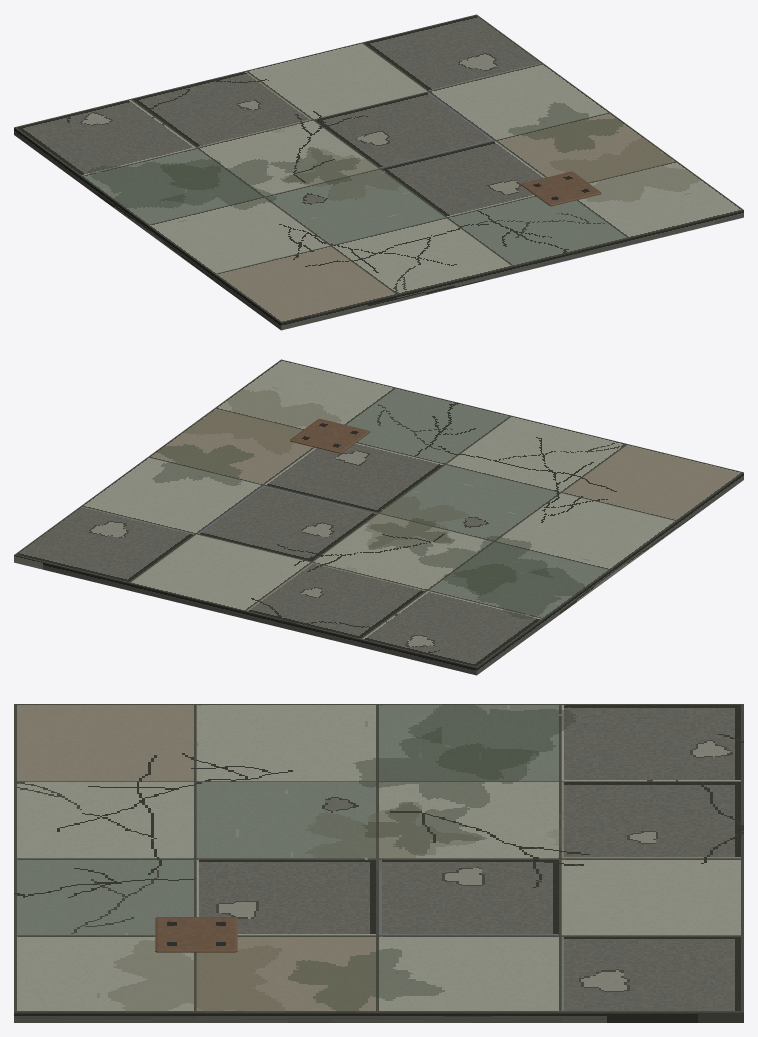
File: floor_4c.glb
The picture shows the model from 3 angles, top to bottom: view 1: azimuth 30°, elevation 25°; view 2: azimuth 150°, elevation 25°; view 3: azimuth 270°, elevation 25°; orthographic projection. The views are drawn at different scales.
Visible parts, largest first — view 1: floor_tiles, floor_edge, floor_plate; view 2: floor_tiles, floor_edge, floor_plate; view 3: floor_tiles, floor_edge, floor_plate.
Part boxes in pixels (left/top/right/bottom): floor_tiles: left=14, top=14, right=743, bottom=322; floor_edge: left=14, top=127, right=743, bottom=330; floor_plate: left=521, top=171, right=601, bottom=206; floor_tiles: left=14, top=359, right=743, bottom=667; floor_edge: left=14, top=472, right=743, bottom=675; floor_plate: left=290, top=419, right=370, bottom=453; floor_tiles: left=14, top=704, right=743, bottom=1012; floor_edge: left=14, top=1012, right=743, bottom=1022; floor_plate: left=155, top=917, right=237, bottom=952.
Bounding box in the file's own units: 2 × 0.0362 × 2.
1 material, 1 textured.
